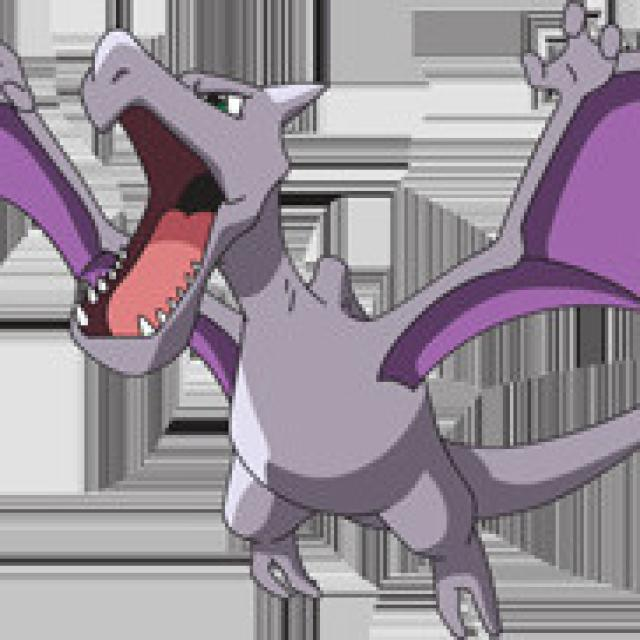Aerodactyl: (67, 29, 615, 592)
